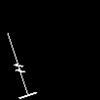treble_crochet: (15, 64, 36, 98)
